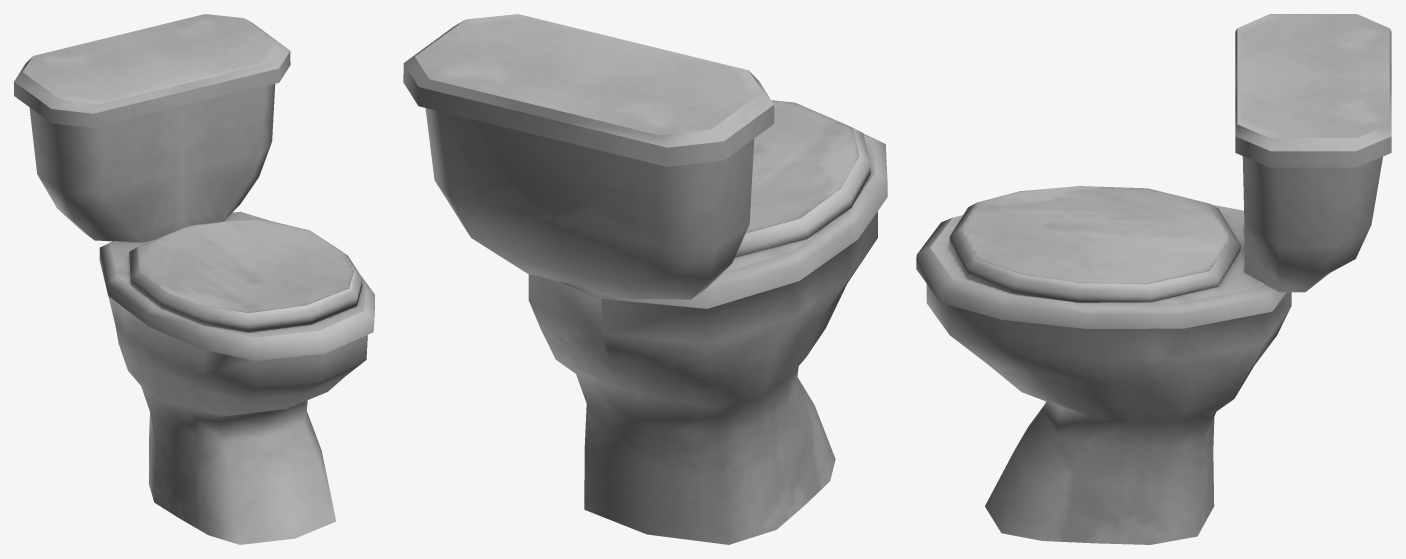
The model's file is W_Toilet.fbx.
The picture shows the model from 3 angles, left to right: view 1: azimuth 30°, elevation 25°; view 2: azimuth 150°, elevation 25°; view 3: azimuth 270°, elevation 25°; orthographic projection. The views are drawn at different scales.
Parts seen in each view (by area): view 1: Toilet_2; view 2: Toilet_2; view 3: Toilet_2.
Part boxes in pixels (x1=…): Toilet_2: x1=14, y1=14, x2=374, y2=544; Toilet_2: x1=403, y1=14, x2=887, y2=544; Toilet_2: x1=916, y1=14, x2=1391, y2=544.
Size of the model in its own units: 0.338 by 0.5068 by 0.5074.
